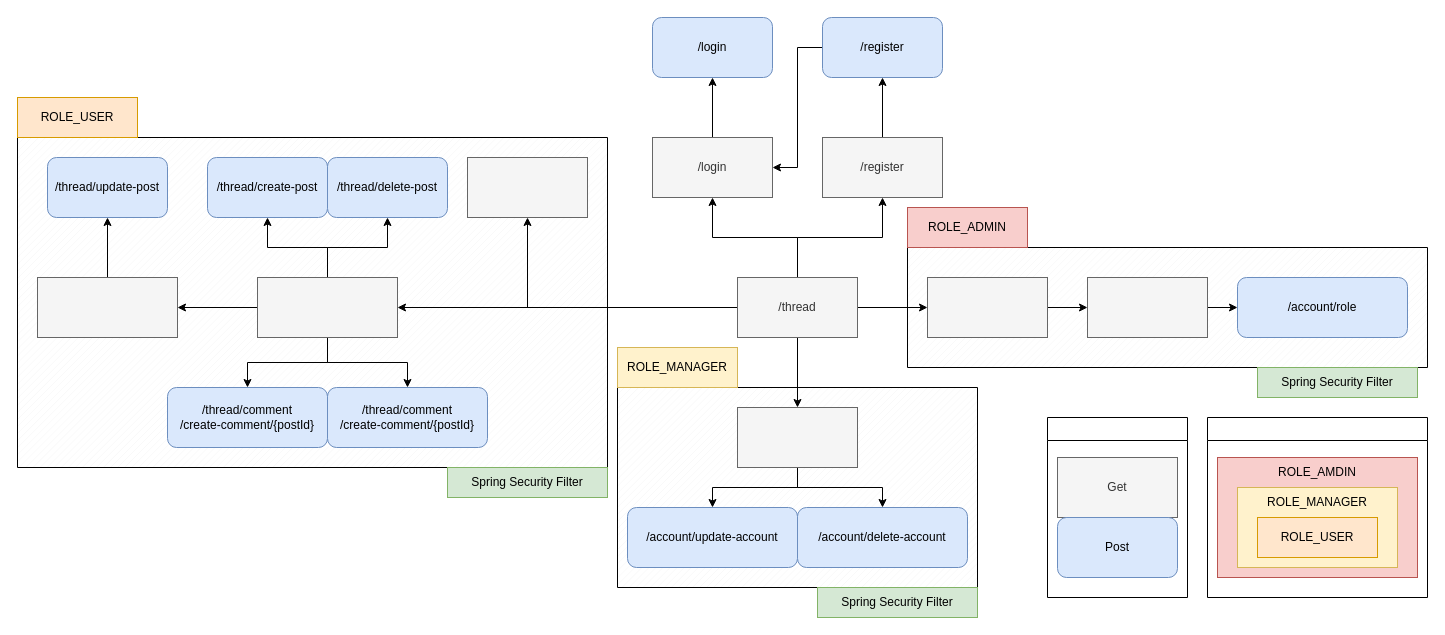
Some shapes in this 1445 by 635 pixel diagram are drawn without their labels. Here are the shapes that lost their labels. From the top down, the centre of each, then its label:
pixel 527 187: /account
pixel 107 307: /thread/update-post /{postId}
pixel 327 307: /thread/post /{postId}
pixel 987 307: /admin/role
pixel 1147 307: /admin/role /{accountId}
pixel 797 437: /admin/account
pixel 1117 507: 요청 블럭
pixel 1317 507: 권한 관계
